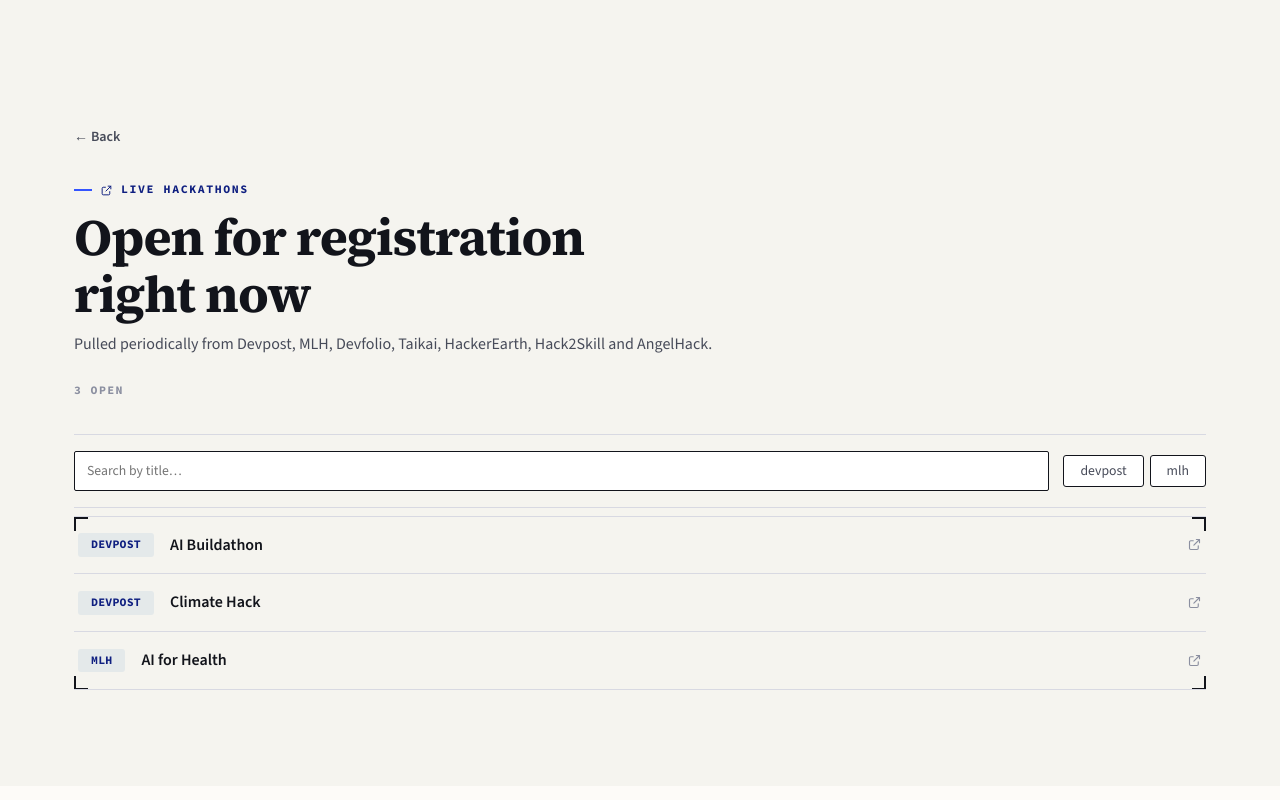
Test: LiveHackathons page — search and platform filter › combines the search box and the platform filter
The image size is (1280, 800).
Expected: the text "AI Buildathon" is shown, 170,534 -> 263,555
Click the button "devpost" at coordinates (1104, 471), box 1063,455 -> 1144,487
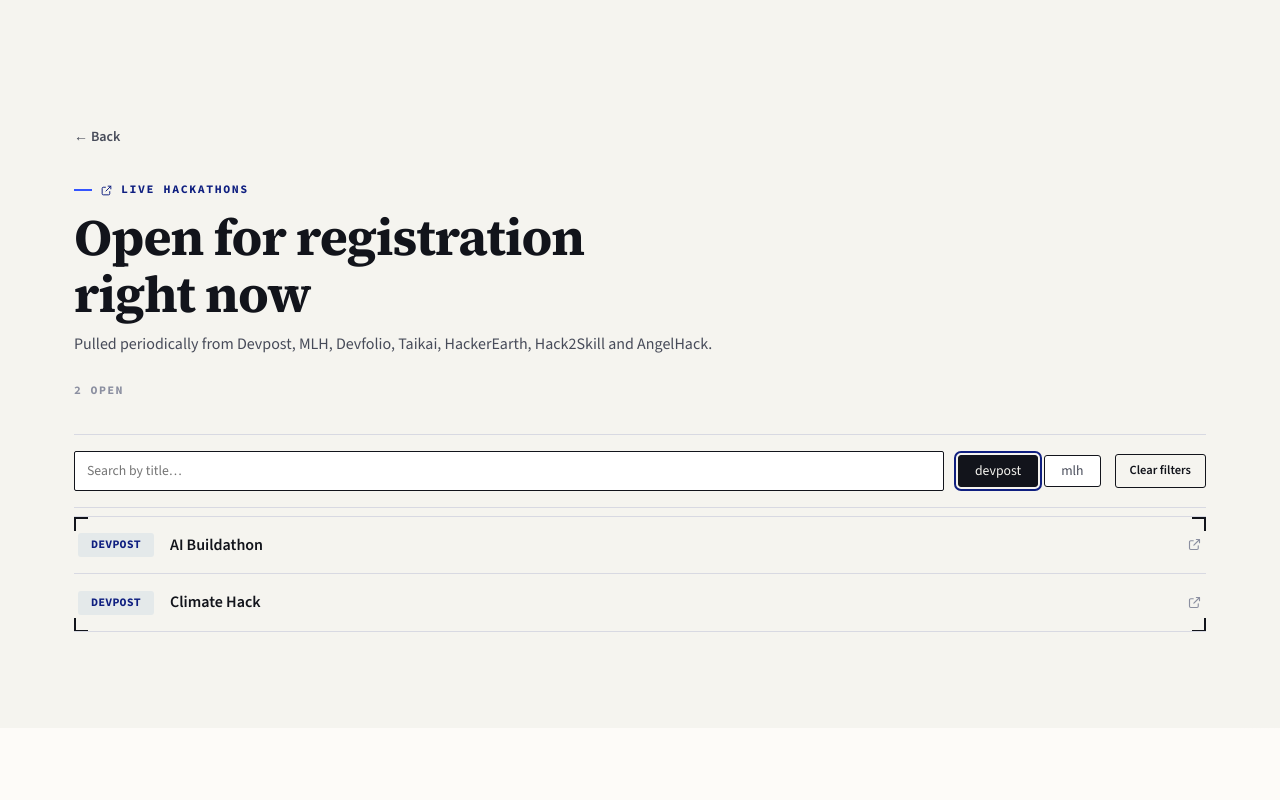
Type "climate" into the search field named "search live hackathons" at coordinates (509, 471), box 74,451 -> 944,491
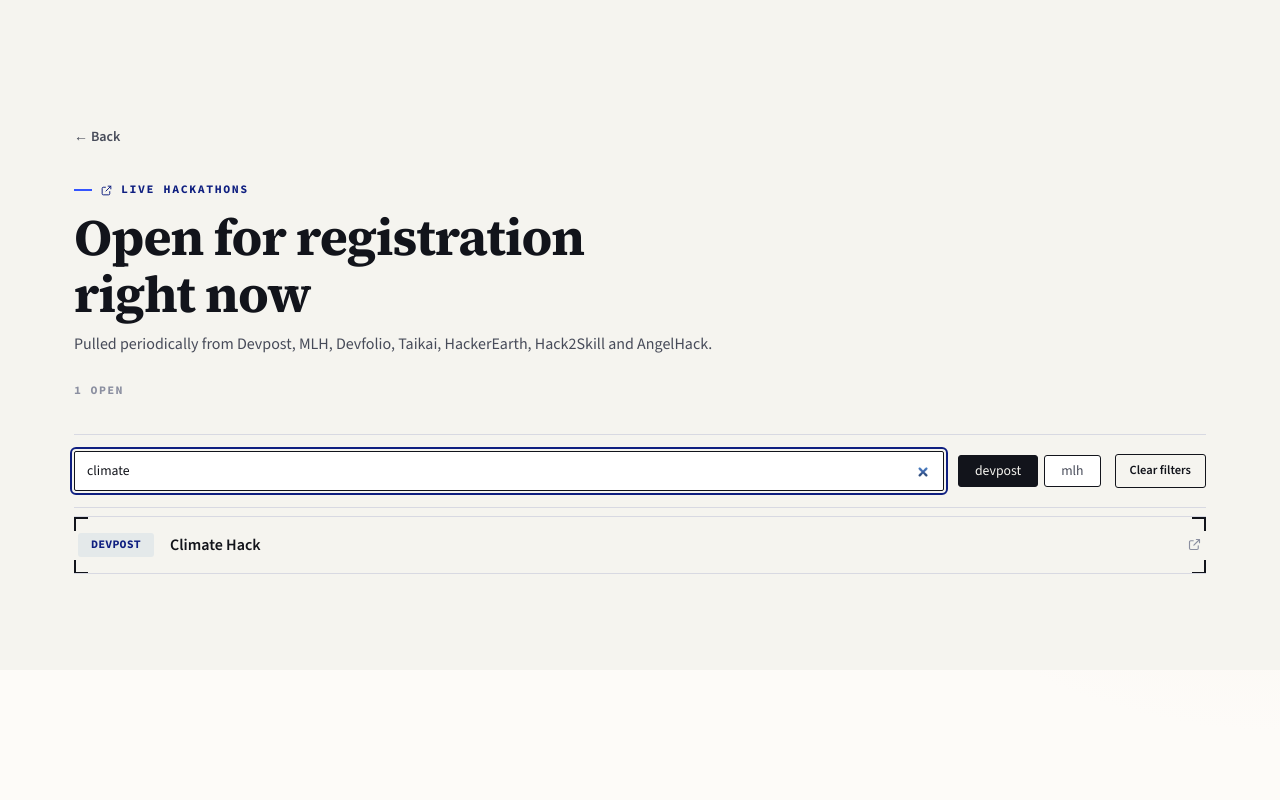
Expected: the text "Climate Hack" is shown, 170,534 -> 261,555
Result: the link "AI Buildathon" is gone
